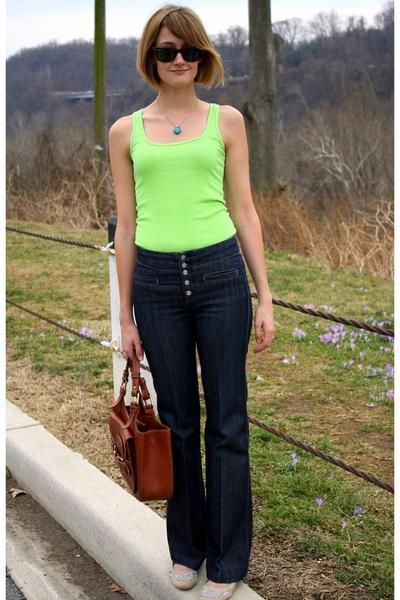pants: (129, 228, 254, 583)
shirt: (130, 121, 236, 251)
